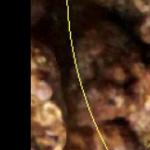alive: (33, 1, 148, 149)
